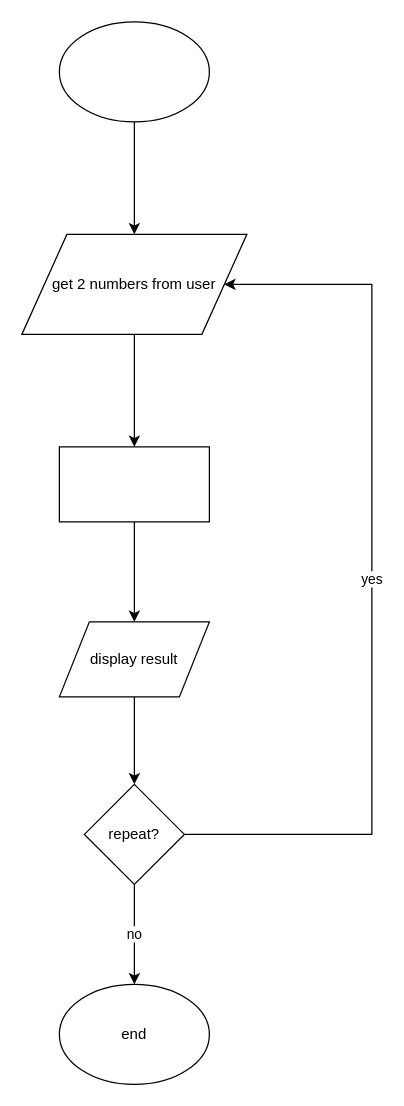
Some shapes in this 404 by 1106 pixel diagram are drawn without their labels. The centre of each missing label's shape, as x and y in pixels:
"add numbers together" goes at (133,484).
"start" goes at (133,71).
